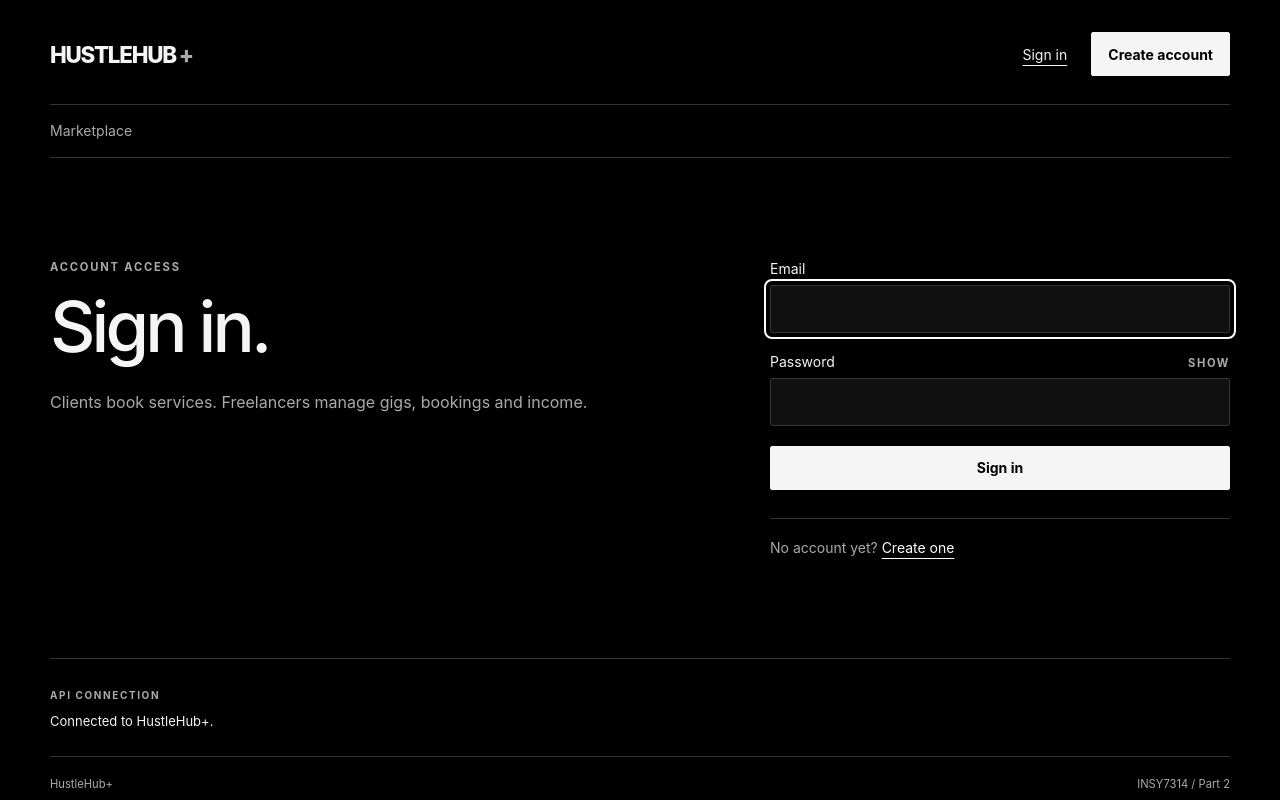
Test: login › shows a generic error for bad credentials and never echoes the password
The width and height of the screenshot is (1280, 800).
Type "nobody@example.com" into the field labelled "Email" at (1000, 309), box top-left (770, 285), bottom-right (1230, 333)
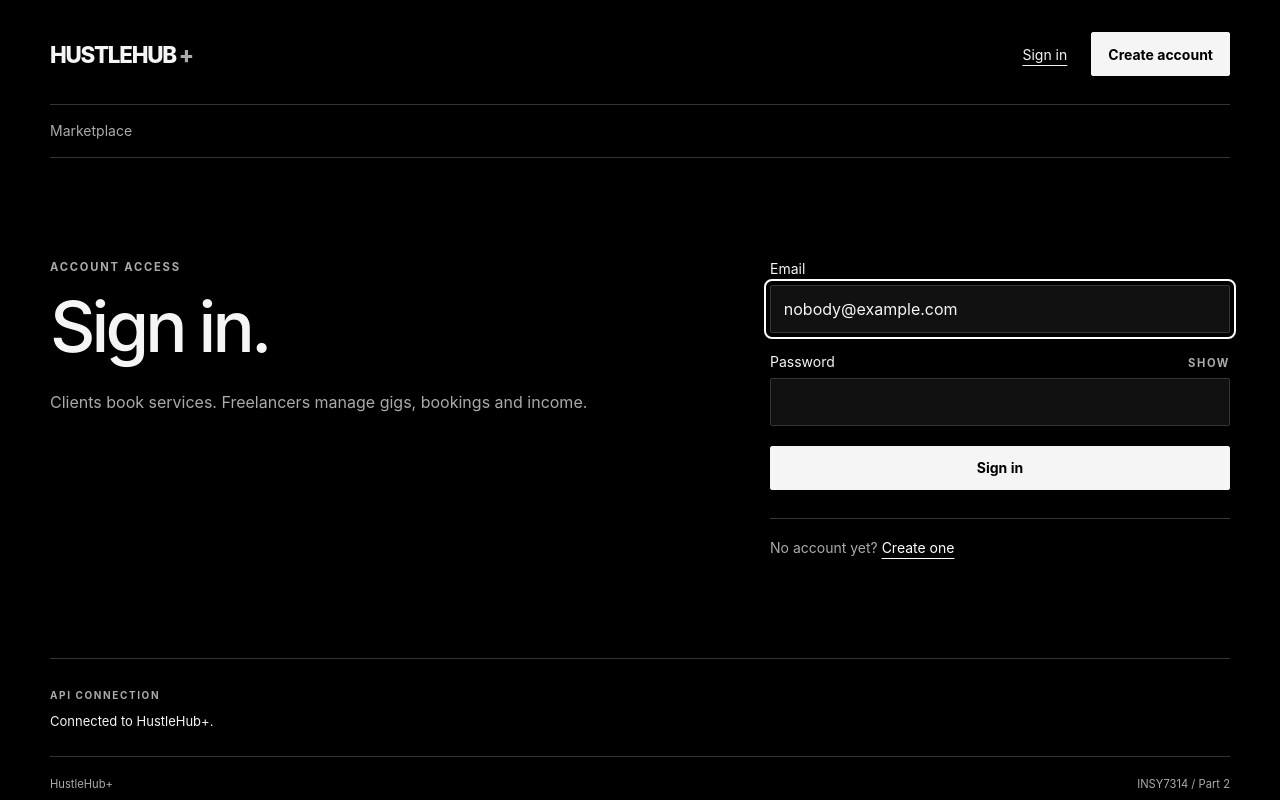
Type "Wrong-pass-123" into the password field labelled "Password" at (1000, 402), box top-left (770, 378), bottom-right (1230, 426)
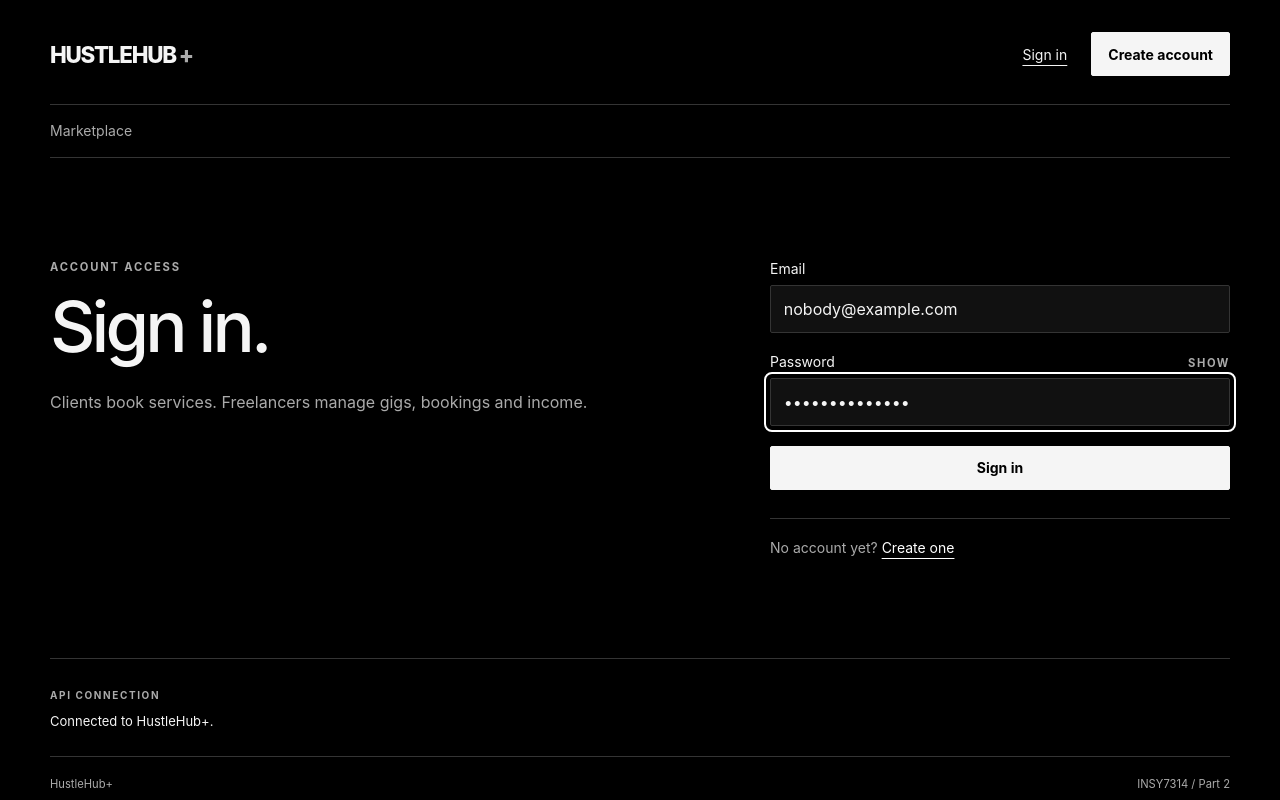
Click the button "Sign in" at (1000, 468), box top-left (770, 446), bottom-right (1230, 490)
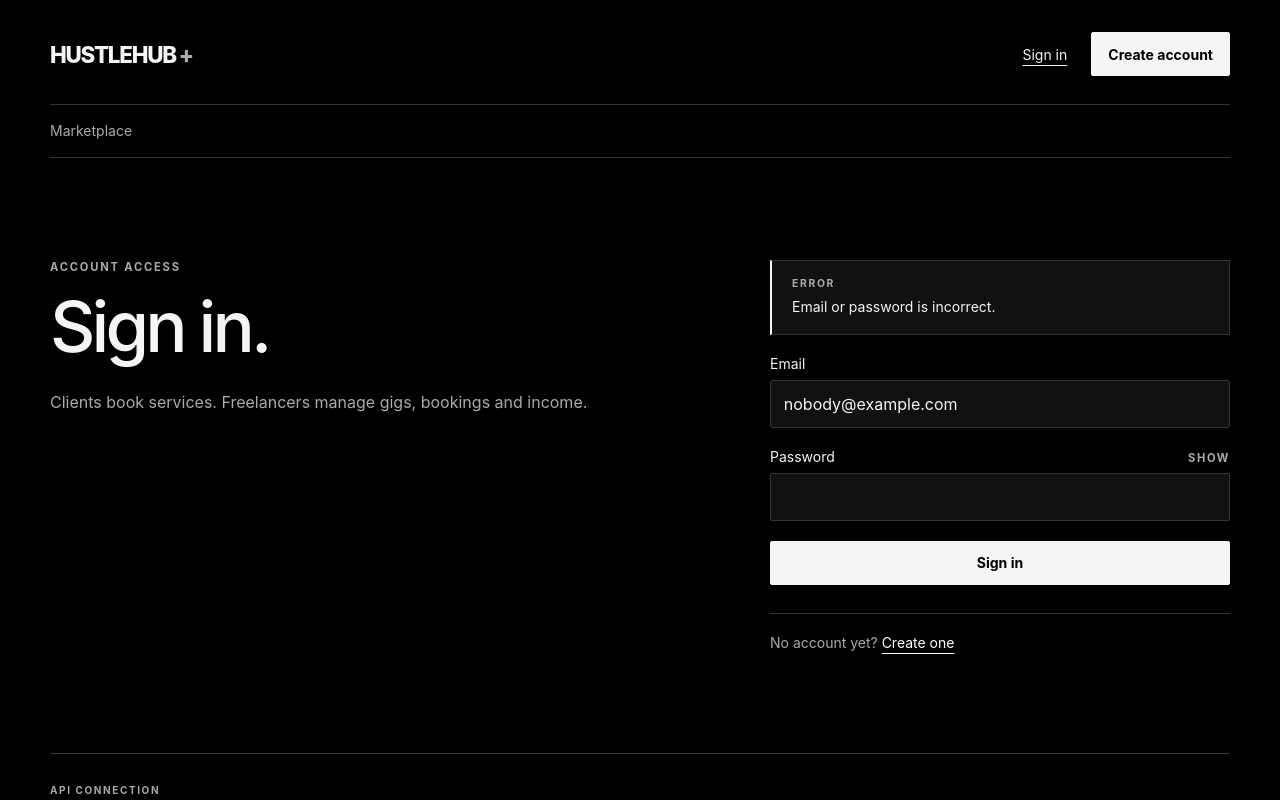
expect the message "Error Email or password is incorrect." is shown: met, box top-left (770, 260), bottom-right (1230, 335)
expect the password field labelled "Password" is empty: met, box top-left (770, 473), bottom-right (1230, 521)
